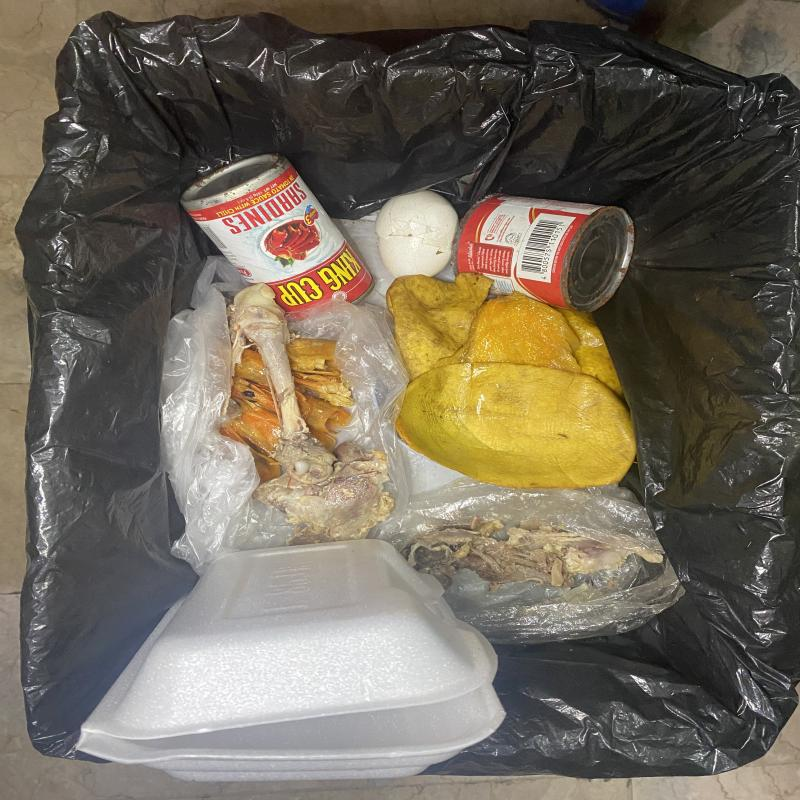aluminum: (180, 154, 375, 316), (452, 196, 638, 317)
egg shell: (374, 189, 460, 279)
fruit peels: (385, 273, 637, 490)
left-over food: (220, 285, 396, 545), (409, 518, 663, 592)
plastic bag: (162, 260, 407, 571), (374, 477, 684, 647)
styrofoam containers: (75, 539, 508, 785)
